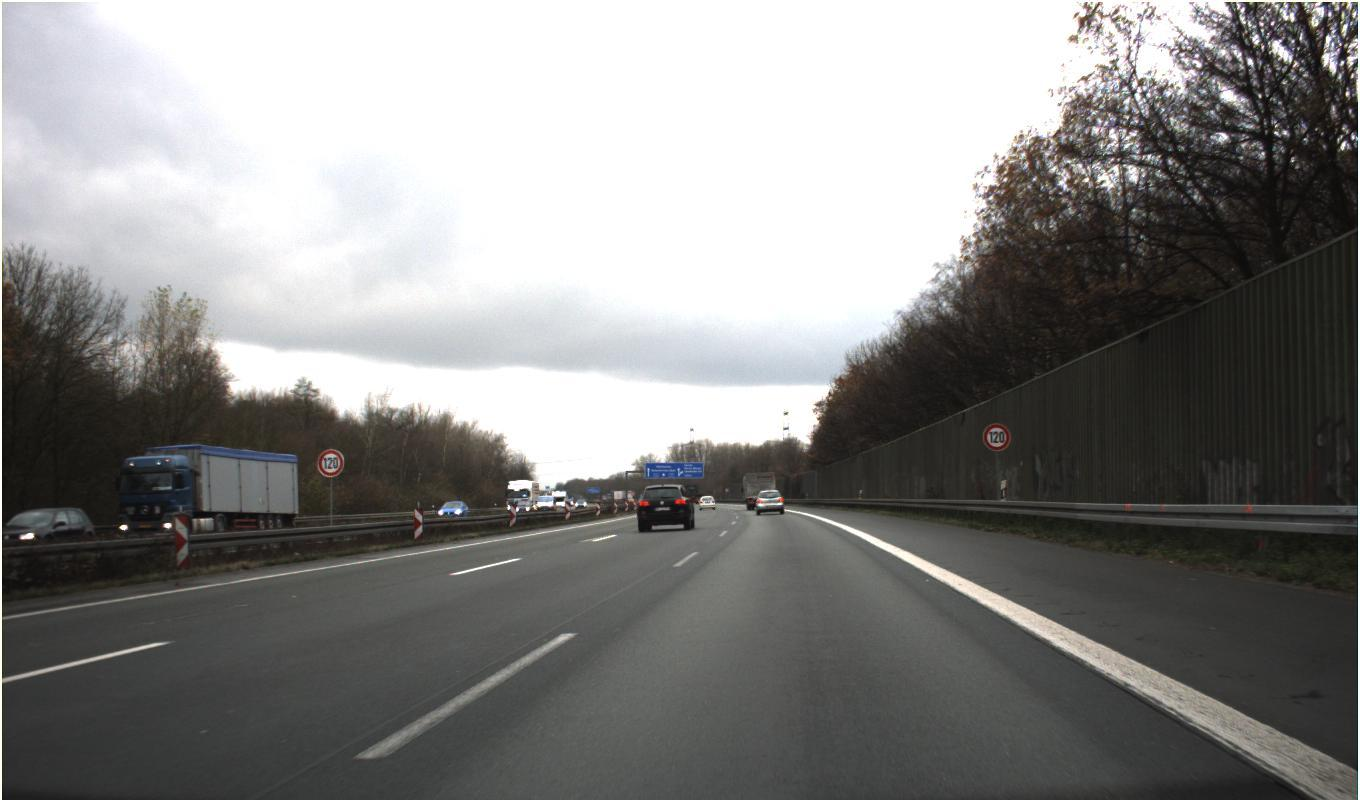speed limit 120 prohibitory: (315, 447, 345, 476), (982, 422, 1011, 451)
